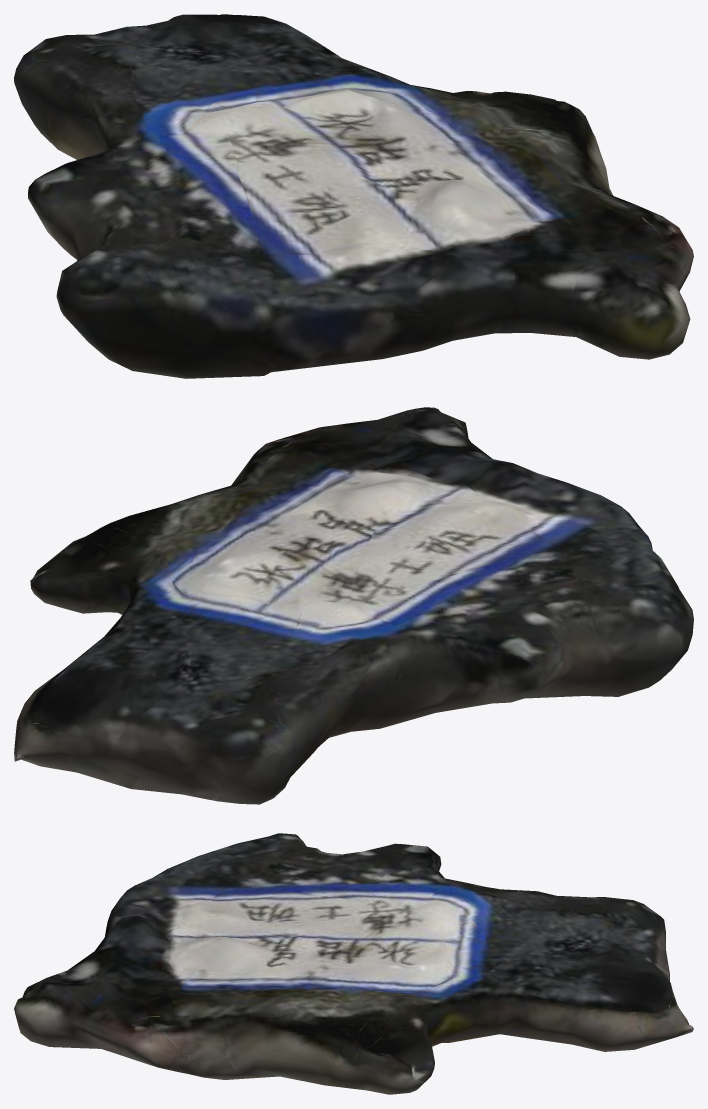
The model's file is hall.glb.
The picture shows the model from 3 angles, top to bottom: view 1: azimuth 30°, elevation 25°; view 2: azimuth 150°, elevation 25°; view 3: azimuth 270°, elevation 25°; orthographic projection. The views are drawn at different scales.
Bounding box in the file's own units: 0.5523 × 0.1179 × 0.7167.
1 material, 1 textured.
